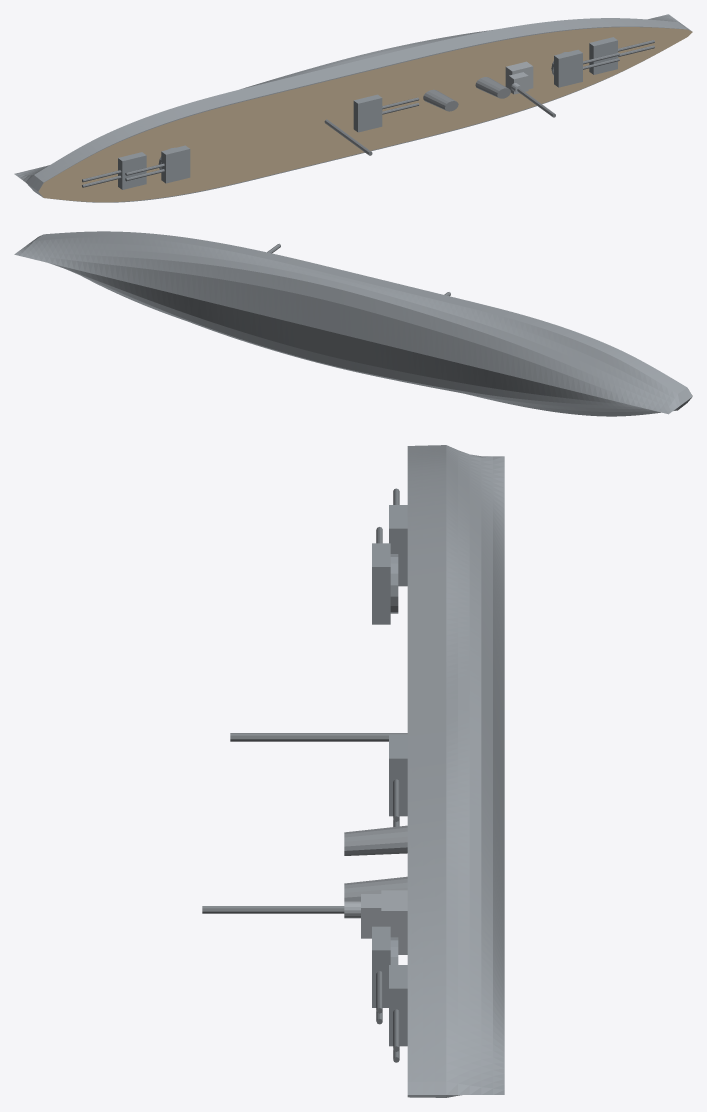
The model's file is B-C_Amagi.glb.
The picture shows the model from 3 angles, top to bottom: view 1: azimuth 30°, elevation 25°; view 2: azimuth 150°, elevation 25°; view 3: azimuth 270°, elevation 25°; orthographic projection. The views are drawn at different scales.
Parts seen in each view (by area): view 1: B-C_Amagi; view 2: B-C_Amagi; view 3: B-C_Amagi.
Part boxes in pixels (x1,y1,x2,y2): B-C_Amagi: [14, 14, 692, 202]; B-C_Amagi: [14, 231, 692, 416]; B-C_Amagi: [202, 445, 504, 1097].
Bounding box in the file's own units: 247 × 31.36 × 49.38.
